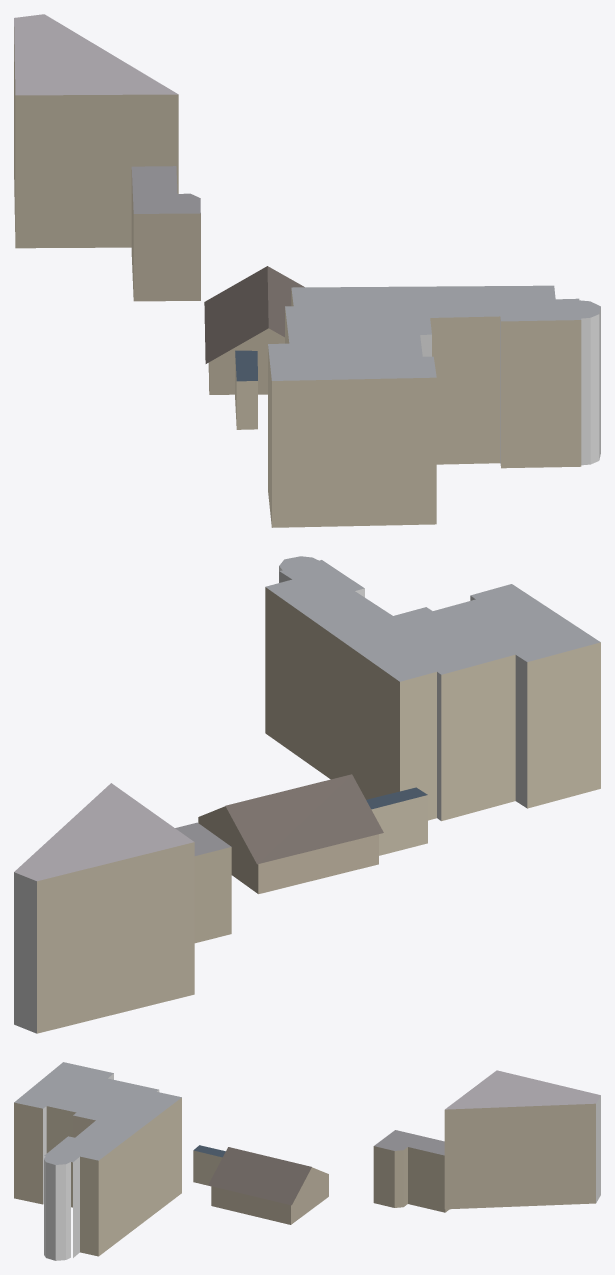
3 views of the same model, one above another, from view 1: azimuth 30°, elevation 25°; view 2: azimuth 150°, elevation 25°; view 3: azimuth 270°, elevation 25° (orthographic). The views are drawn at different scales.
Parts seen in each view (by area): view 1: tuile; view 2: tuile; view 3: tuile.
Boxes of the visible parts, x1,y1,x2,y2 form: tuile: [14, 14, 600, 527]; tuile: [14, 556, 600, 1033]; tuile: [14, 1062, 600, 1260].
Size of the model in its own units: 35.1 by 17.74 by 84.5.
